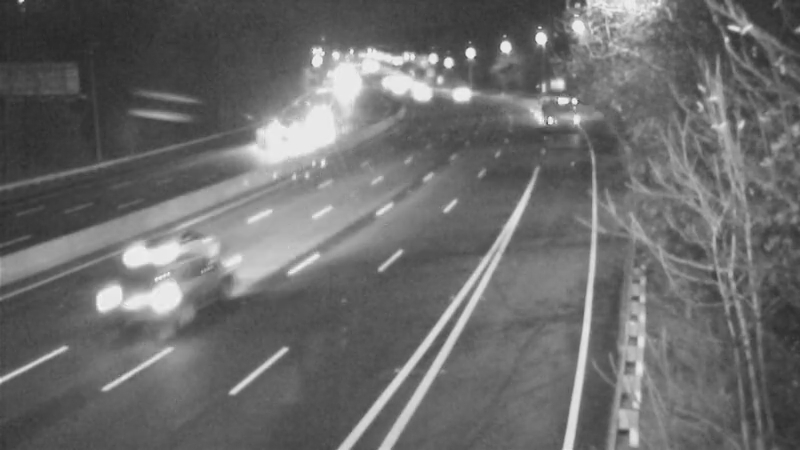vehicle: (114, 203, 194, 283), (96, 259, 176, 339), (438, 67, 488, 117), (394, 72, 444, 122), (531, 83, 581, 133), (246, 108, 296, 158), (278, 116, 328, 166)
